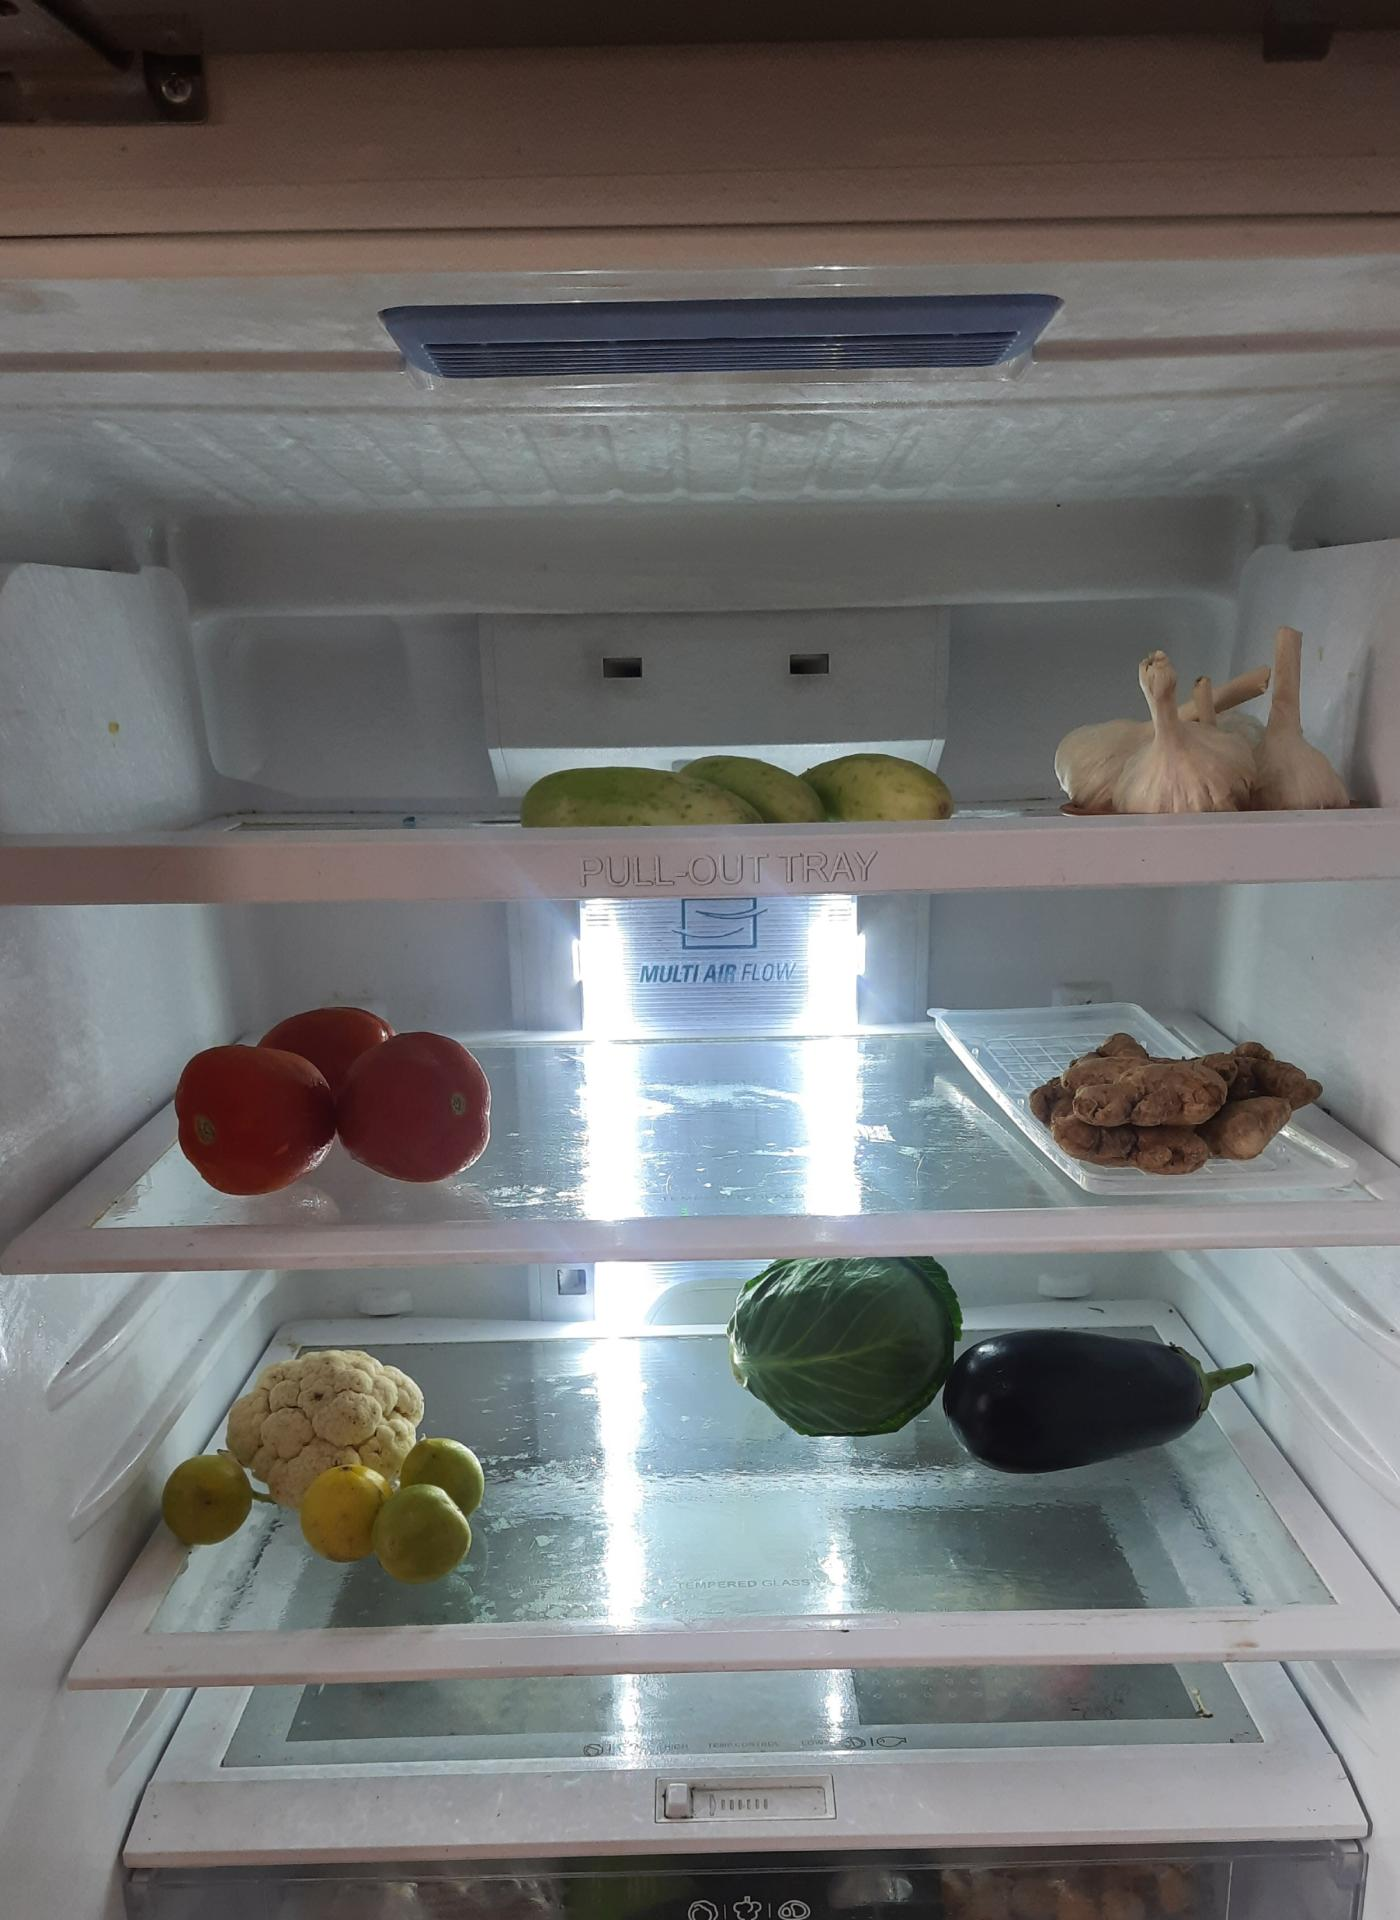brinjal: (941, 1316, 1258, 1462)
cabbage: (723, 1258, 965, 1439)
cauliflower: (234, 1349, 429, 1491)
cucumber: (502, 747, 968, 832)
garlic: (1060, 645, 1360, 812)
ginger: (1029, 1045, 1327, 1187)
lemon: (180, 1443, 482, 1573)
tomato: (173, 1000, 492, 1191)
